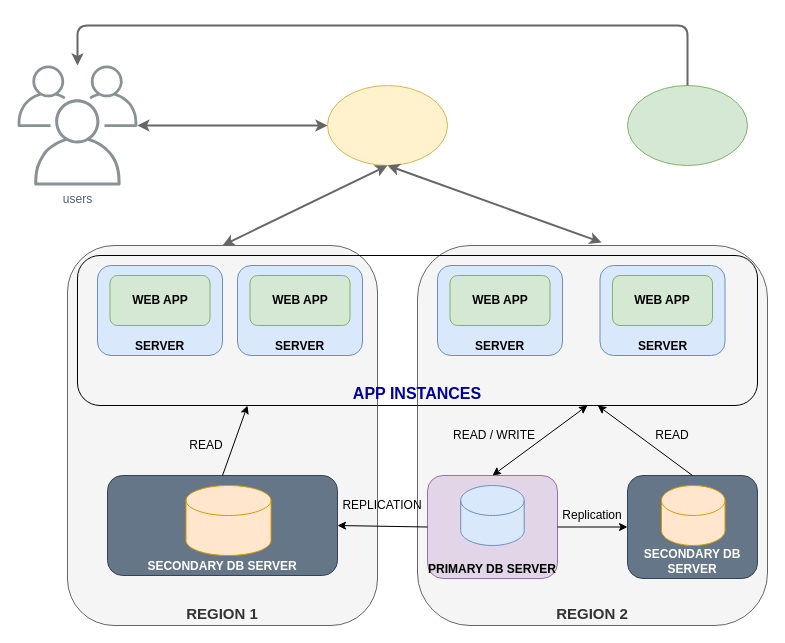
The diagram is 785 pixels wide and 643 high, and some of its shapes have lost their labels. Each missing label, with the centre of its shape:
CDN: pixel 687 125
LOAD BALANCER: pixel 387 125
